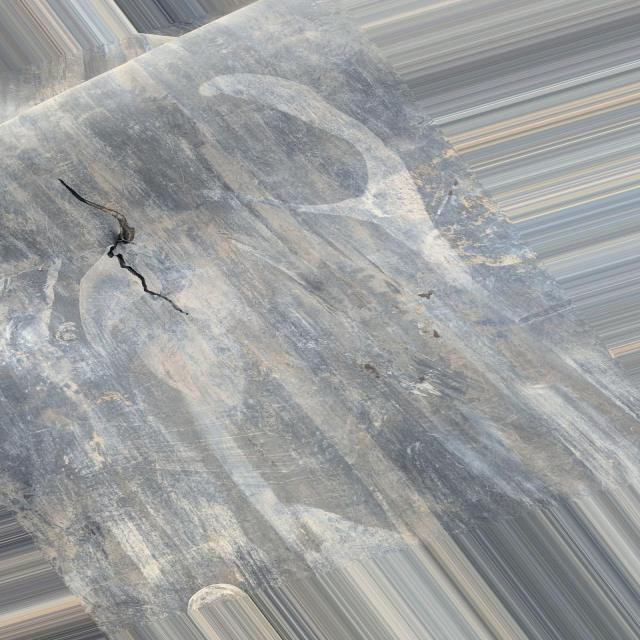Tear: (55, 186, 186, 315), (56, 179, 104, 210)
